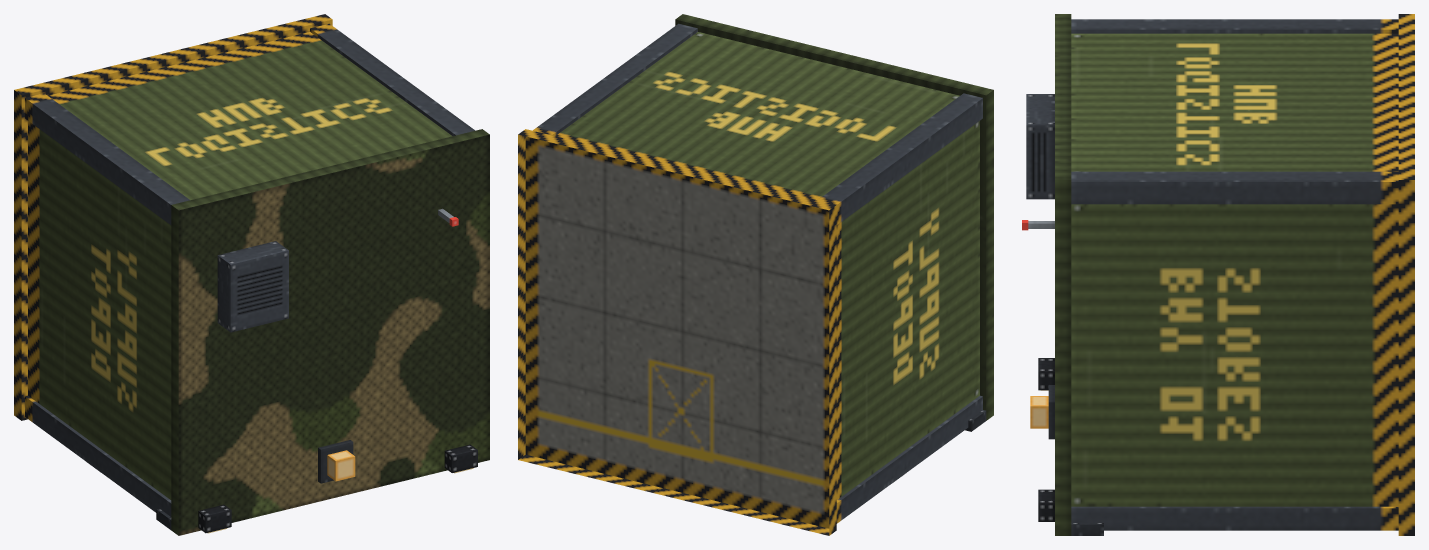
The model's file is logistics_hub.obj.
3 renders of one model, left to right at view 1: azimuth 30°, elevation 25°; view 2: azimuth 150°, elevation 25°; view 3: azimuth 270°, elevation 25°, orthographic. The views are drawn at different scales.
Visible parts, largest first — view 1: logistics_hub_Roof, logistics_hub_Wall_R, logistics_hub_Wall_back, logistics_hub_Pad, logistics_hub_Column_2, logistics_hub_AC_unit, logistics_hub_Column_0, logistics_hub_Column_3, logistics_hub_Flood_0, logistics_hub_Flood_1, logistics_hub_Beacon, logistics_hub_Beacon_base; view 2: logistics_hub_Pad, logistics_hub_Wall_R, logistics_hub_Wall_back, logistics_hub_Roof, logistics_hub_Column_2, logistics_hub_Column_0, logistics_hub_Column_3; view 3: logistics_hub_Wall_L, logistics_hub_Wall_back, logistics_hub_Column_3, logistics_hub_Pad, logistics_hub_Roof, logistics_hub_Column_1, logistics_hub_Column_2, logistics_hub_AC_unit, logistics_hub_Beacon, logistics_hub_Flood_1, logistics_hub_Flood_0.
Boxes of the visible parts, left/top/right/bottom form: logistics_hub_Roof: left=171, top=129, right=489, bottom=535; logistics_hub_Wall_R: left=28, top=121, right=171, bottom=499; logistics_hub_Wall_back: left=48, top=32, right=452, bottom=200; logistics_hub_Pad: left=14, top=14, right=332, bottom=420; logistics_hub_Column_2: left=25, top=93, right=189, bottom=224; logistics_hub_AC_unit: left=217, top=241, right=288, bottom=332; logistics_hub_Column_0: left=25, top=395, right=171, bottom=516; logistics_hub_Column_3: left=310, top=23, right=474, bottom=135; logistics_hub_Flood_0: left=198, top=504, right=231, bottom=533; logistics_hub_Flood_1: left=444, top=444, right=477, bottom=472; logistics_hub_Beacon: left=327, top=450, right=355, bottom=481; logistics_hub_Beacon_base: left=318, top=440, right=353, bottom=483; logistics_hub_Pad: left=518, top=129, right=836, bottom=535; logistics_hub_Wall_R: left=836, top=121, right=979, bottom=499; logistics_hub_Wall_back: left=555, top=32, right=959, bottom=200; logistics_hub_Roof: left=675, top=14, right=993, bottom=420; logistics_hub_Column_2: left=818, top=93, right=982, bottom=224; logistics_hub_Column_0: left=836, top=395, right=982, bottom=523; logistics_hub_Column_3: left=533, top=23, right=697, bottom=135; logistics_hub_Wall_L: left=1071, top=204, right=1398, bottom=506; logistics_hub_Wall_back: left=1071, top=33, right=1398, bottom=171; logistics_hub_Column_3: left=1071, top=171, right=1398, bottom=204; logistics_hub_Pad: left=1398, top=14, right=1414, bottom=535; logistics_hub_Roof: left=1055, top=14, right=1071, bottom=535; logistics_hub_Column_1: left=1071, top=506, right=1398, bottom=530; logistics_hub_Column_2: left=1071, top=19, right=1398, bottom=33; logistics_hub_AC_unit: left=1026, top=94, right=1054, bottom=199; logistics_hub_Beacon: left=1030, top=396, right=1048, bottom=428; logistics_hub_Flood_1: left=1038, top=489, right=1054, bottom=521; logistics_hub_Flood_0: left=1038, top=358, right=1054, bottom=390.
Size of the model in its own units: 3 by 3 by 3.
